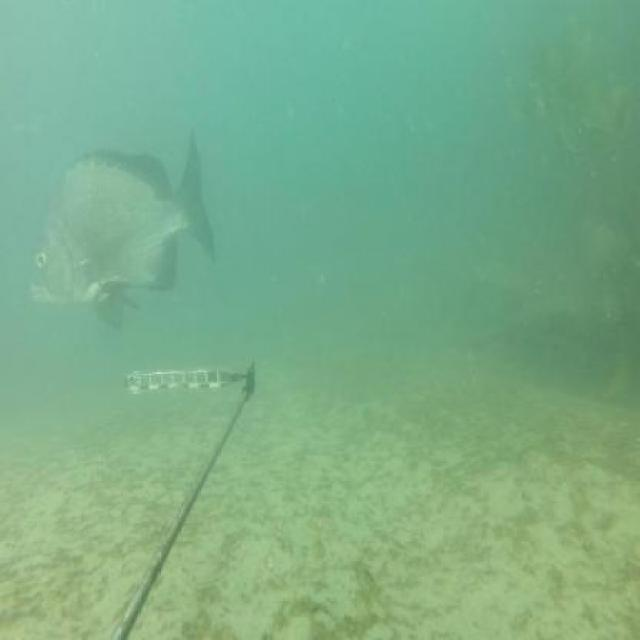acanthopagrus_palmaris: (30, 126, 216, 337)
